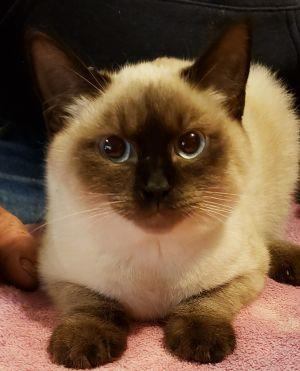siamese: (26, 8, 258, 259)
